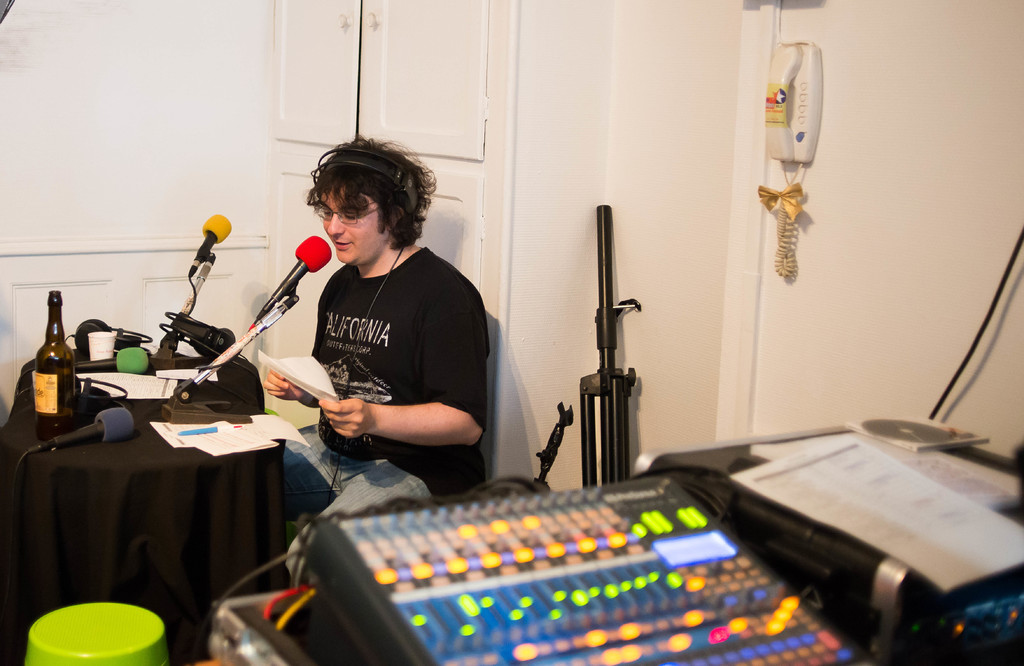Person: (262, 133, 489, 585)
